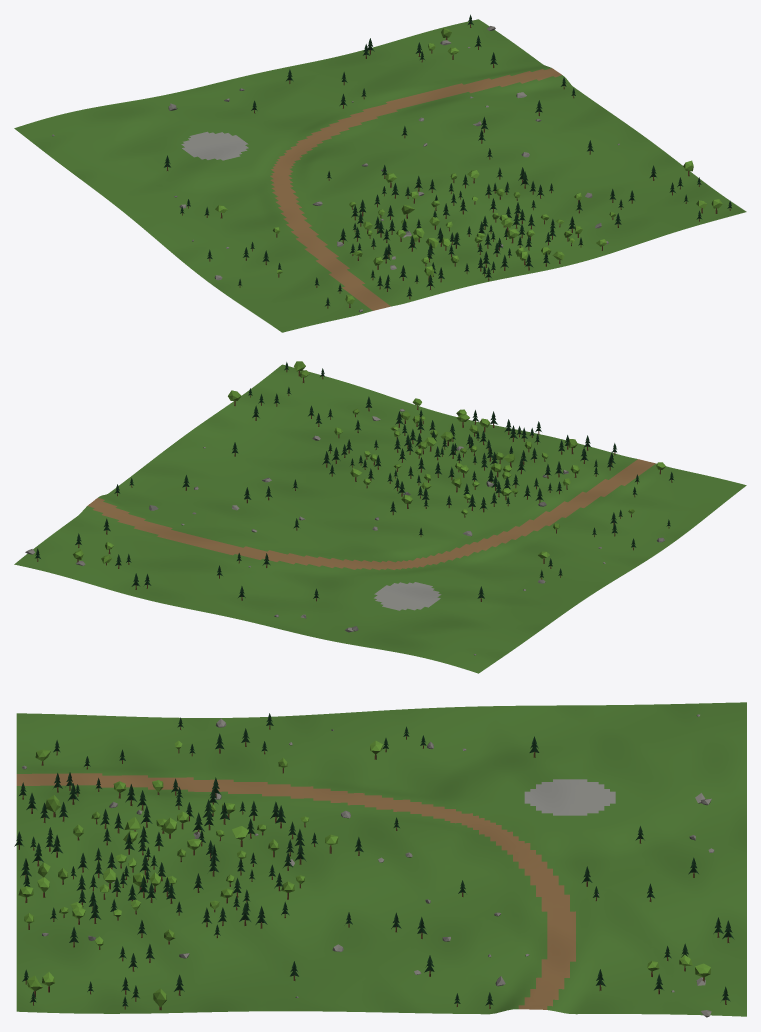
Rendered from chunk_0_0.glb.
3 renders of one model, top to bottom at view 1: azimuth 30°, elevation 25°; view 2: azimuth 150°, elevation 25°; view 3: azimuth 270°, elevation 25°, orthographic. The views are drawn at different scales.
Parts seen in each view (by area): view 1: Surface_Grass, Surface_Dirt, Props_Pines, Props_Leaves, Surface_Gravel, Props_Trunks, Props_Rocks; view 2: Surface_Grass, Surface_Dirt, Props_Pines, Props_Leaves, Surface_Gravel, Props_Trunks, Props_Rocks; view 3: Surface_Grass, Surface_Dirt, Props_Pines, Props_Leaves, Surface_Gravel, Props_Trunks, Props_Rocks.
Boxes of the visible parts, x1,y1,x2,y2 form: Surface_Grass: (14,19,746,332); Surface_Dirt: (270,68,561,310); Props_Pines: (164,14,731,306); Props_Leaves: (215,28,722,303); Surface_Gravel: (181,131,248,160); Props_Trunks: (167,24,730,308); Props_Rocks: (52,26,619,312); Surface_Grass: (14,364,746,673); Surface_Dirt: (87,459,655,570); Props_Pines: (35,362,674,598); Props_Leaves: (73,361,665,563); Surface_Gravel: (374,582,441,610); Props_Trunks: (37,369,672,601); Props_Rocks: (25,409,664,655); Surface_Grass: (16,702,746,1016); Surface_Dirt: (16,773,575,1009); Props_Pines: (14,713,734,1006); Props_Leaves: (18,740,710,1007); Surface_Gravel: (524,779,615,815); Props_Trunks: (18,725,729,1010); Props_Rocks: (22,714,714,1017).
Bounding box in the file's own units: 257 × 14.96 × 257.
